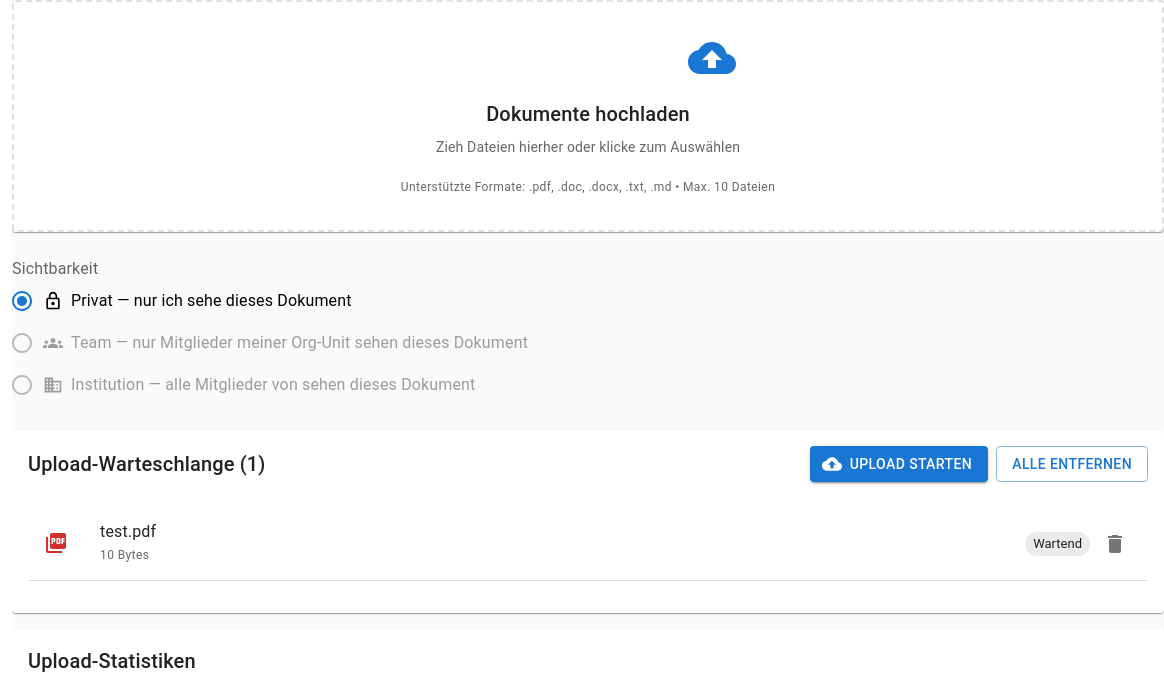
it: DocumentUpload › Errors and retry › marks a failed file, reports the translated fallback and counts it
Click the button "Upload starten" at [899, 464], box [810,446,988,482]
(page scrolled)
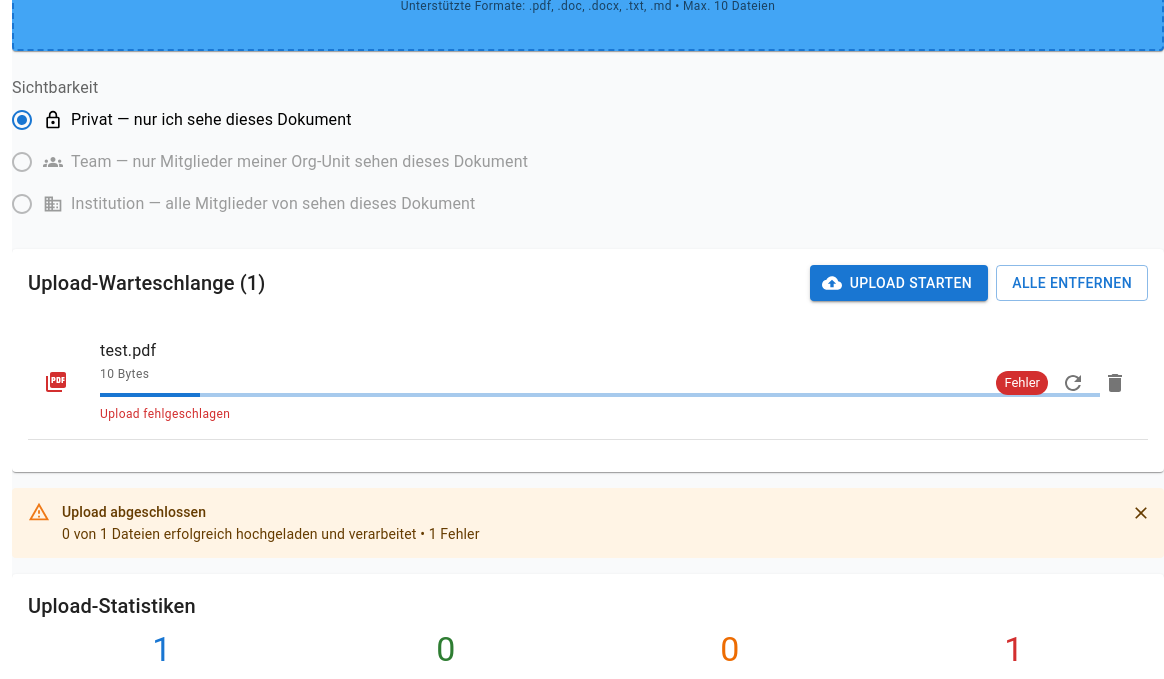
Result: the text "Upload fehlgeschlagen" is shown at [100,407,230,421]
Result: the text "Fehler" in the row of "10 Bytes" is shown at [1004,375,1040,390]
